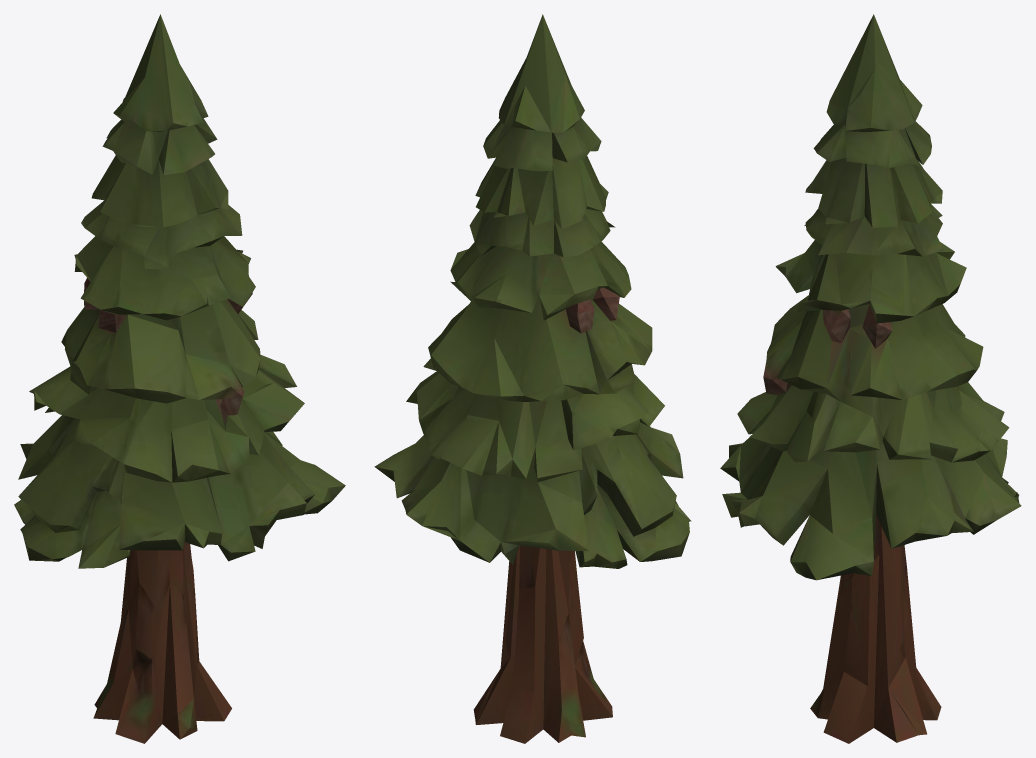
File: bg_forest_pine_2_lod0.glb
3 views of the same model, side by side, from view 1: azimuth 30°, elevation 25°; view 2: azimuth 150°, elevation 25°; view 3: azimuth 270°, elevation 25° (orthographic).
Visible parts, largest first — view 1: sway, body; view 2: sway, body; view 3: sway, body.
Boxes of the visible parts, x1,y1,x2,y2 form: sway: (14, 14, 345, 568); body: (84, 278, 252, 743); sway: (374, 14, 691, 568); body: (473, 287, 690, 743); sway: (720, 14, 1021, 580); body: (763, 304, 941, 743).
Bounding box in the file's own units: 3.5 × 8.01 × 3.12.
1 material, 1 textured.
